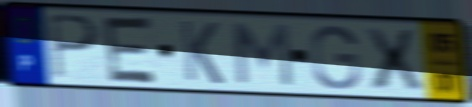E: (101, 14, 160, 86)
G: (308, 23, 363, 92)
K: (177, 18, 226, 87)
M: (230, 20, 296, 90)
P: (45, 11, 102, 82)
X: (360, 25, 428, 92)
